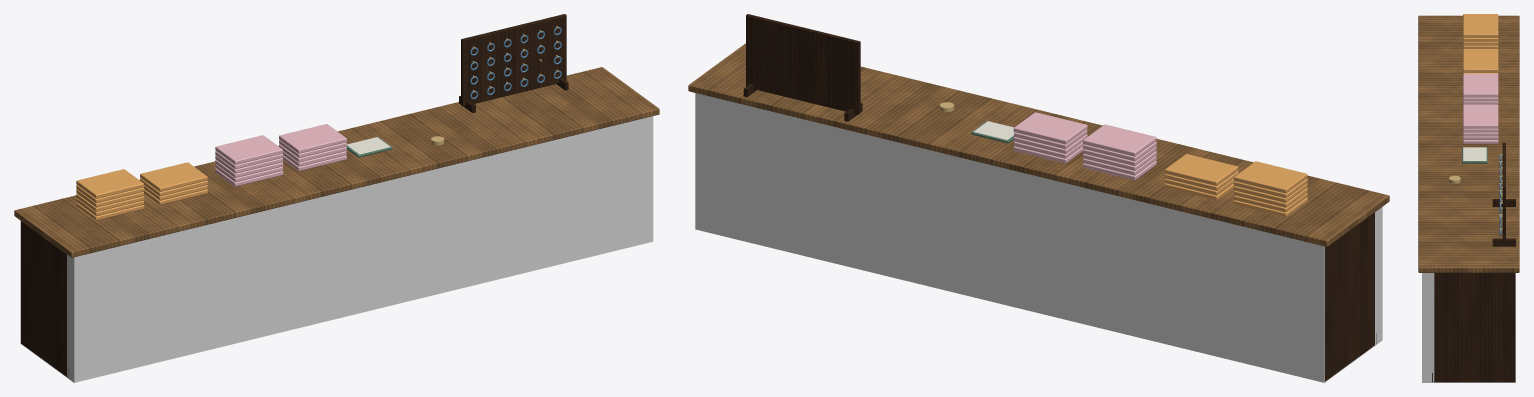
File: counter.glb
3 views of the same model, side by side, from view 1: azimuth 30°, elevation 25°; view 2: azimuth 150°, elevation 25°; view 3: azimuth 270°, elevation 25° (orthographic). The views are drawn at different scales.
Parts seen in each view (by area): view 1: COL_Counter, Counter; view 2: COL_Counter, Counter; view 3: Counter, COL_Counter.
Part boxes in pixels (x1,y1,x2,y2): COL_Counter: [20, 116, 653, 382]; Counter: [14, 14, 659, 377]; COL_Counter: [695, 93, 1382, 382]; Counter: [688, 14, 1389, 381]; Counter: [1418, 14, 1519, 382]; COL_Counter: [1422, 273, 1515, 382].
Size of the model in its own units: 5.08 by 1.68 by 0.8601.
9 materials, 2 textured.
